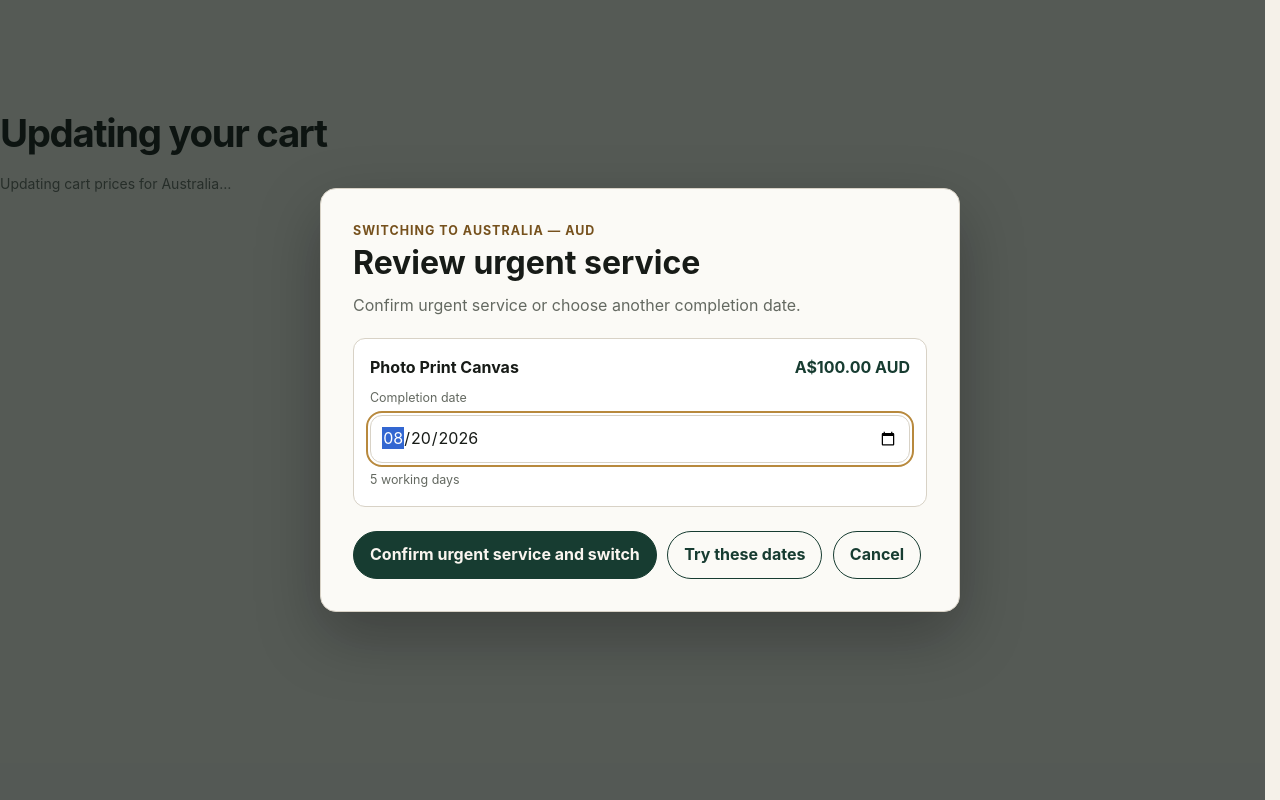
Scenario: CartView › lets an urgent cart confirm the target-market service before automatic repricing
The image size is (1280, 800).
Expected: the dialog "Review urgent service" is shown, [320,188,960,612]
Click the button "Confirm urgent service and switch". click: (505, 555)
box: [353,531,657,579]
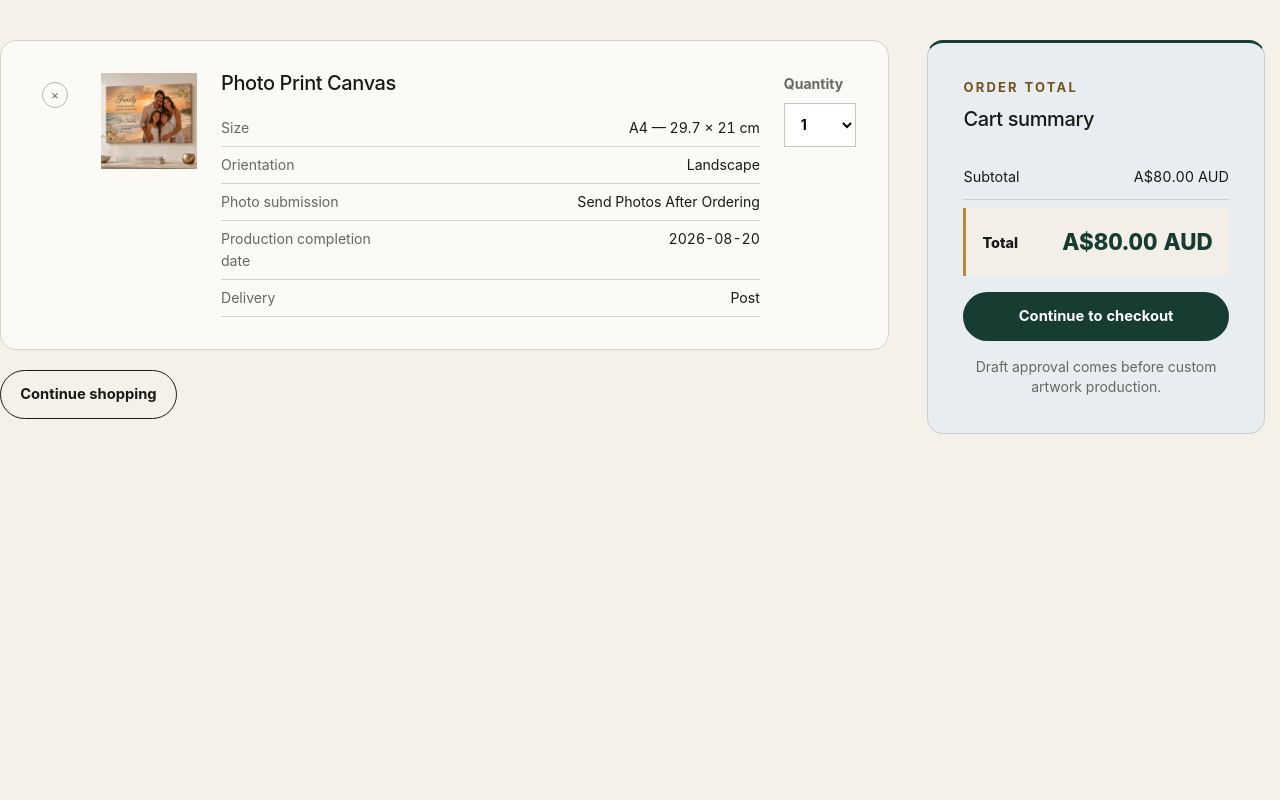
Expected: the text "A$80.00 AUD" is shown 2 times, [1134,165,1229,188]; [1062,224,1213,260]
